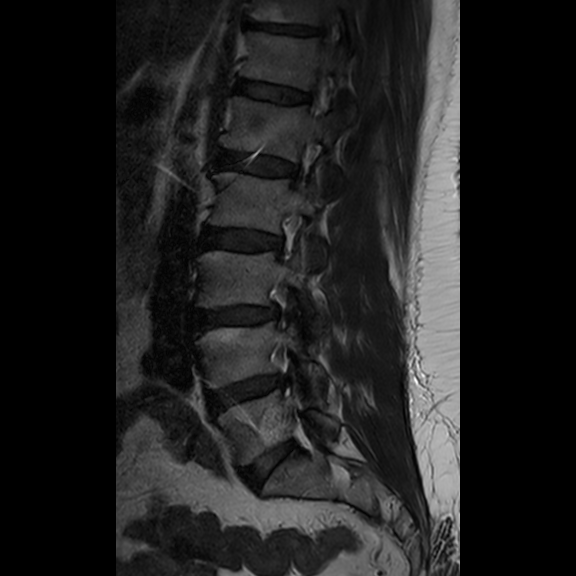RFS0: (253, 273, 305, 340), (281, 130, 326, 199), (263, 204, 309, 269)
